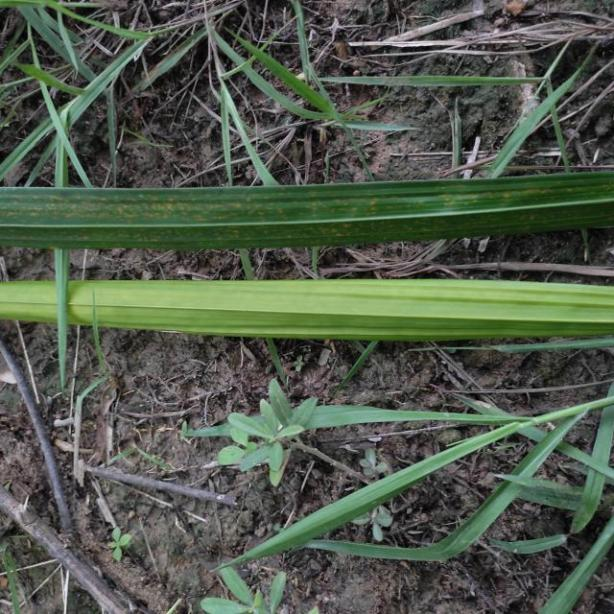nitrogen: (0, 272, 614, 344)
